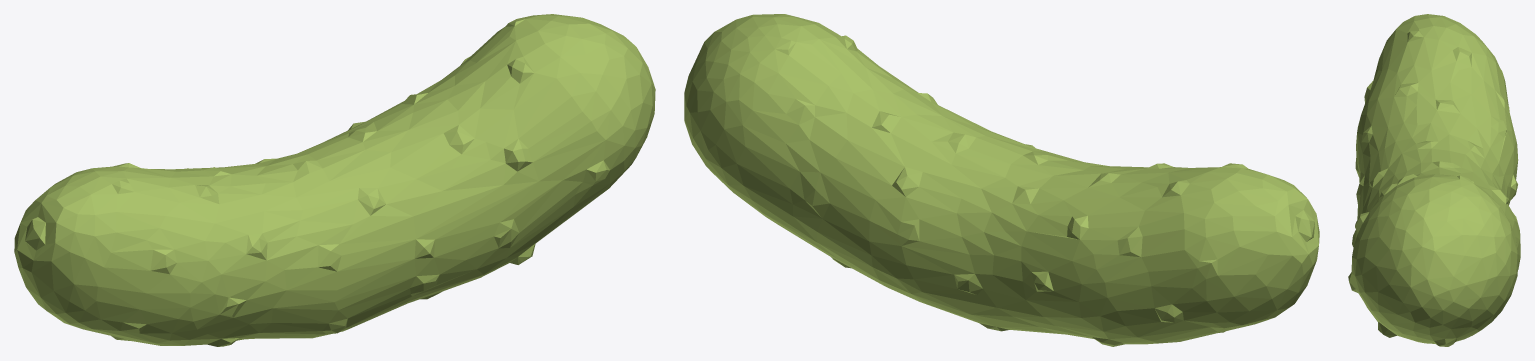
Rendered from pickle.fbx.
The picture shows the model from 3 angles, left to right: view 1: azimuth 30°, elevation 25°; view 2: azimuth 150°, elevation 25°; view 3: azimuth 270°, elevation 25°; orthographic projection. The views are drawn at different scales.
Visible parts, largest first — view 1: Subdivision_Surface.2; view 2: Subdivision_Surface.2; view 3: Subdivision_Surface.2.
Boxes of the visible parts, <box> form: Subdivision_Surface.2: <box>14,14,655,346</box>; Subdivision_Surface.2: <box>684,14,1319,346</box>; Subdivision_Surface.2: <box>1348,14,1520,346</box>.
Size of the model in its own units: 37763 by 14130 by 10358.
